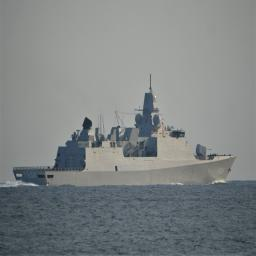Fragata: (13, 73, 240, 190)
